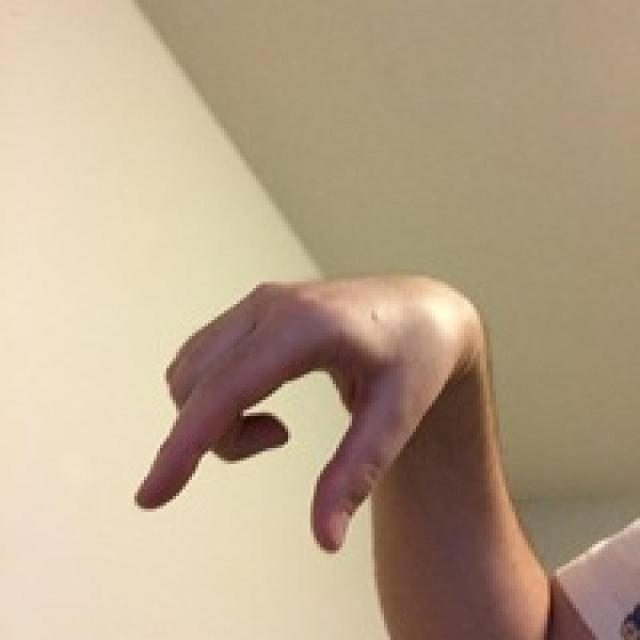Q: (125, 219, 502, 572)
